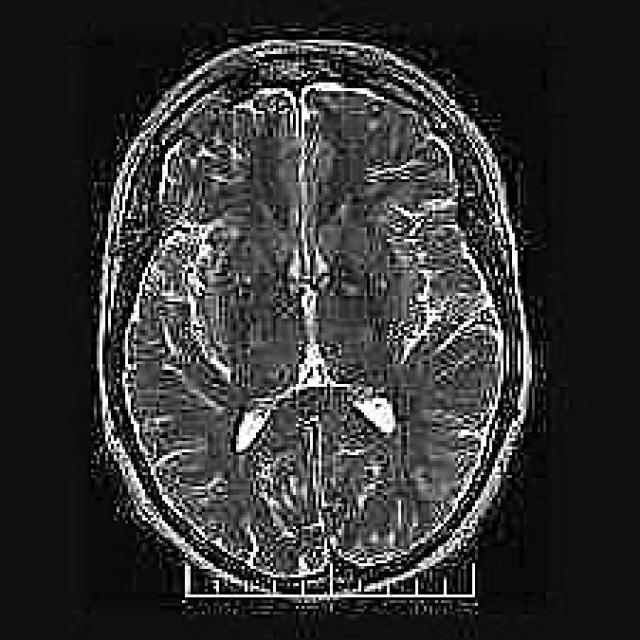notumor: (100, 40, 532, 594)
